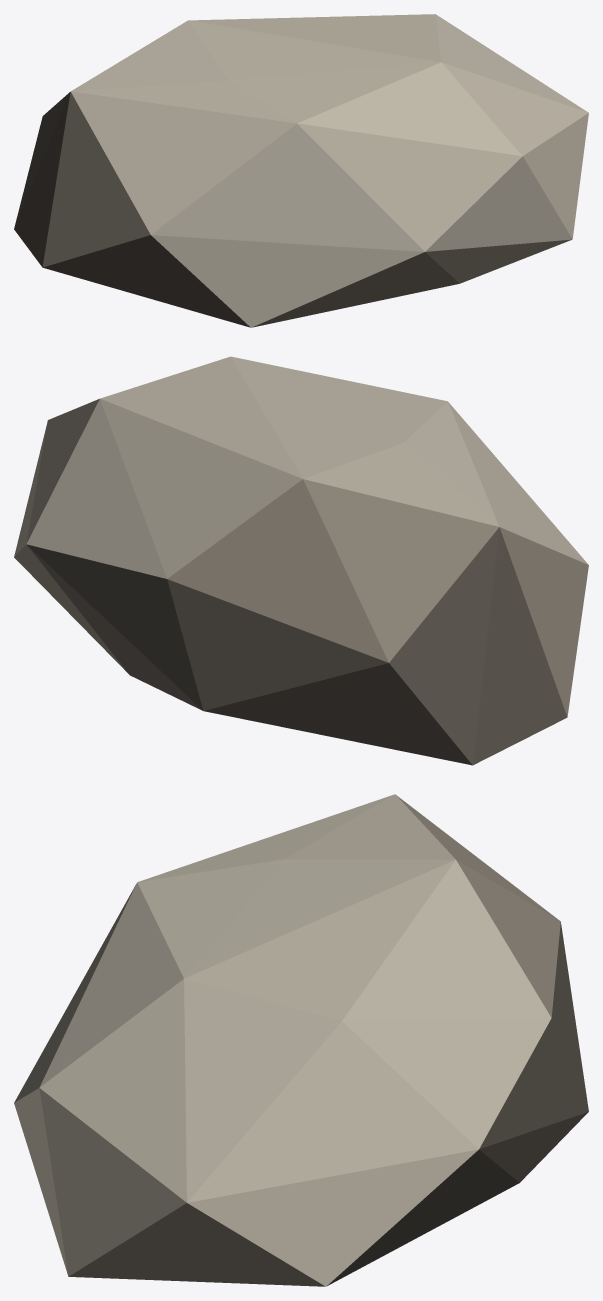
File: stone_bigB.glb
3 renders of one model, top to bottom at view 1: azimuth 30°, elevation 25°; view 2: azimuth 150°, elevation 25°; view 3: azimuth 270°, elevation 25°, orthographic. The views are drawn at different scales.
Visible parts, largest first — view 1: stone_bigB.002; view 2: stone_bigB.002; view 3: stone_bigB.002.
Part boxes in pixels (<box>): stone_bigB.002: <box>14,14,588,327</box>; stone_bigB.002: <box>14,356,588,765</box>; stone_bigB.002: <box>14,794,588,1286</box>.
Bounding box in the file's own units: 0.9 × 0.3529 × 0.6588.
